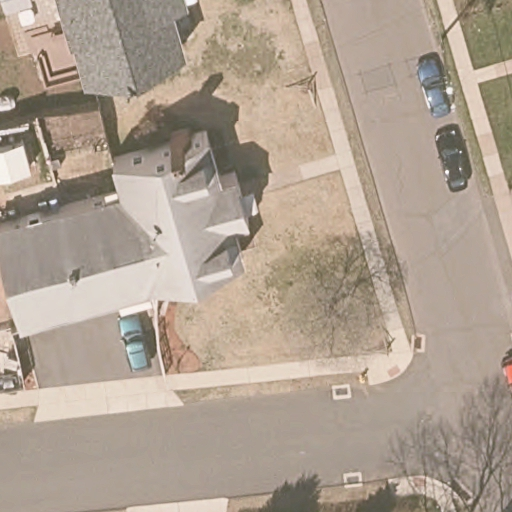DT: (438, 34, 459, 116)
